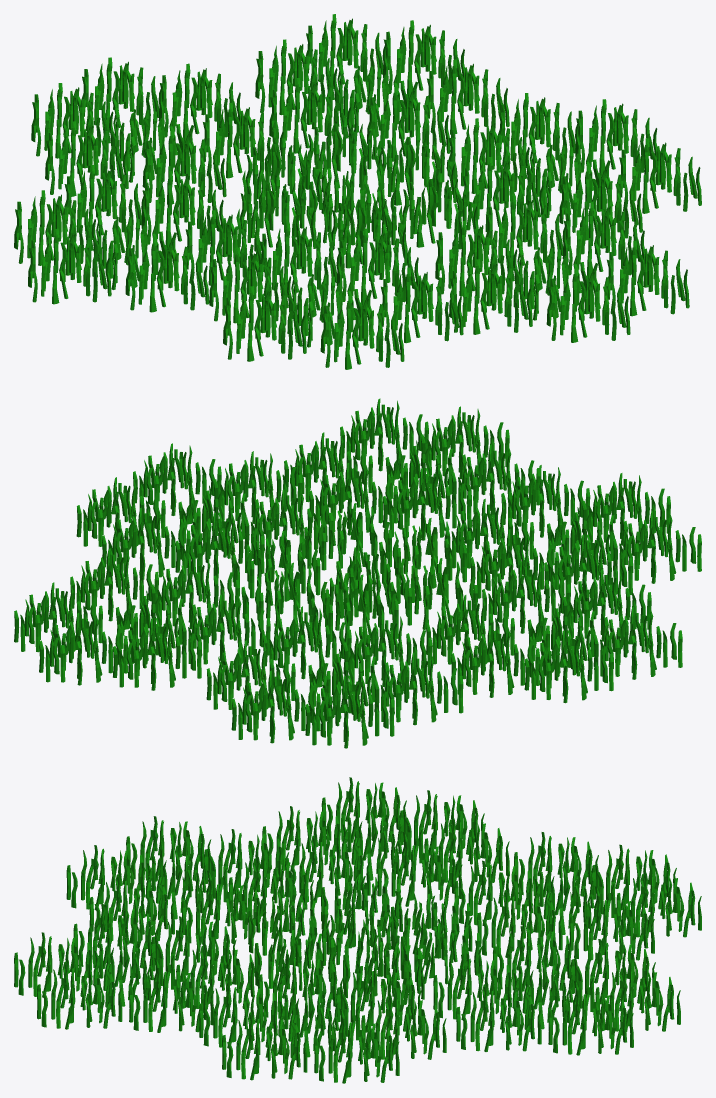
Rendered from grass3.obj.
3 views of the same model, one above another, from view 1: azimuth 30°, elevation 25°; view 2: azimuth 150°, elevation 25°; view 3: azimuth 270°, elevation 25° (orthographic). The views are drawn at different scales.
Visible parts, largest first — view 1: grass_Circle; view 2: grass_Circle; view 3: grass_Circle.
Part boxes in pixels (left/top/right/bottom): grass_Circle: left=14, top=14, right=701, bottom=369; grass_Circle: left=14, top=398, right=701, bottom=748; grass_Circle: left=14, top=777, right=701, bottom=1083.
Bounding box in the file's own units: 6.53 × 0.5502 × 6.94.
